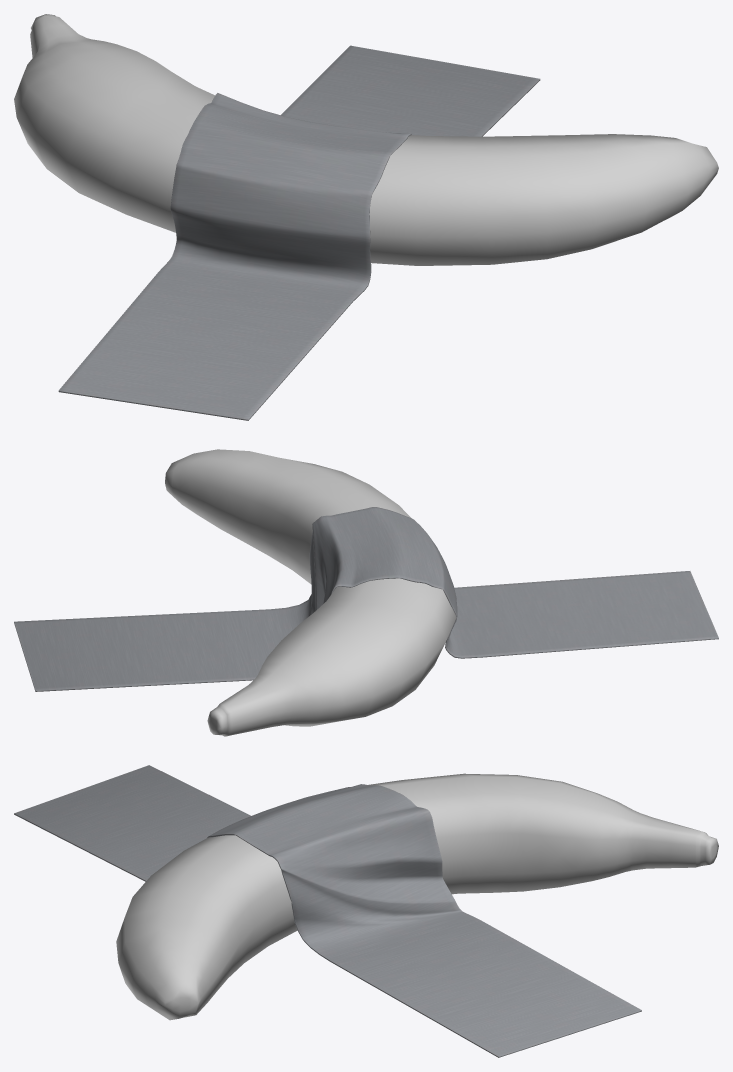
File: Bannana.gltf
3 renders of one model, top to bottom at view 1: azimuth 30°, elevation 25°; view 2: azimuth 150°, elevation 25°; view 3: azimuth 270°, elevation 25°, orthographic. The views are drawn at different scales.
Visible parts, largest first — view 1: plane_low, banana_mesh_low; view 2: plane_low, banana_mesh_low; view 3: plane_low, banana_mesh_low.
Boxes of the visible parts, x1=… form: plane_low: x1=58, y1=45, x2=540, y2=420; banana_mesh_low: x1=14, y1=14, x2=718, y2=265; plane_low: x1=14, y1=507, x2=718, y2=691; banana_mesh_low: x1=165, y1=449, x2=456, y2=736; plane_low: x1=14, y1=765, x2=641, y2=1057; banana_mesh_low: x1=116, y1=773, x2=718, y2=1020.
Size of what is drawn, in the model's own units: 0.9917 by 0.1528 by 1.01.
